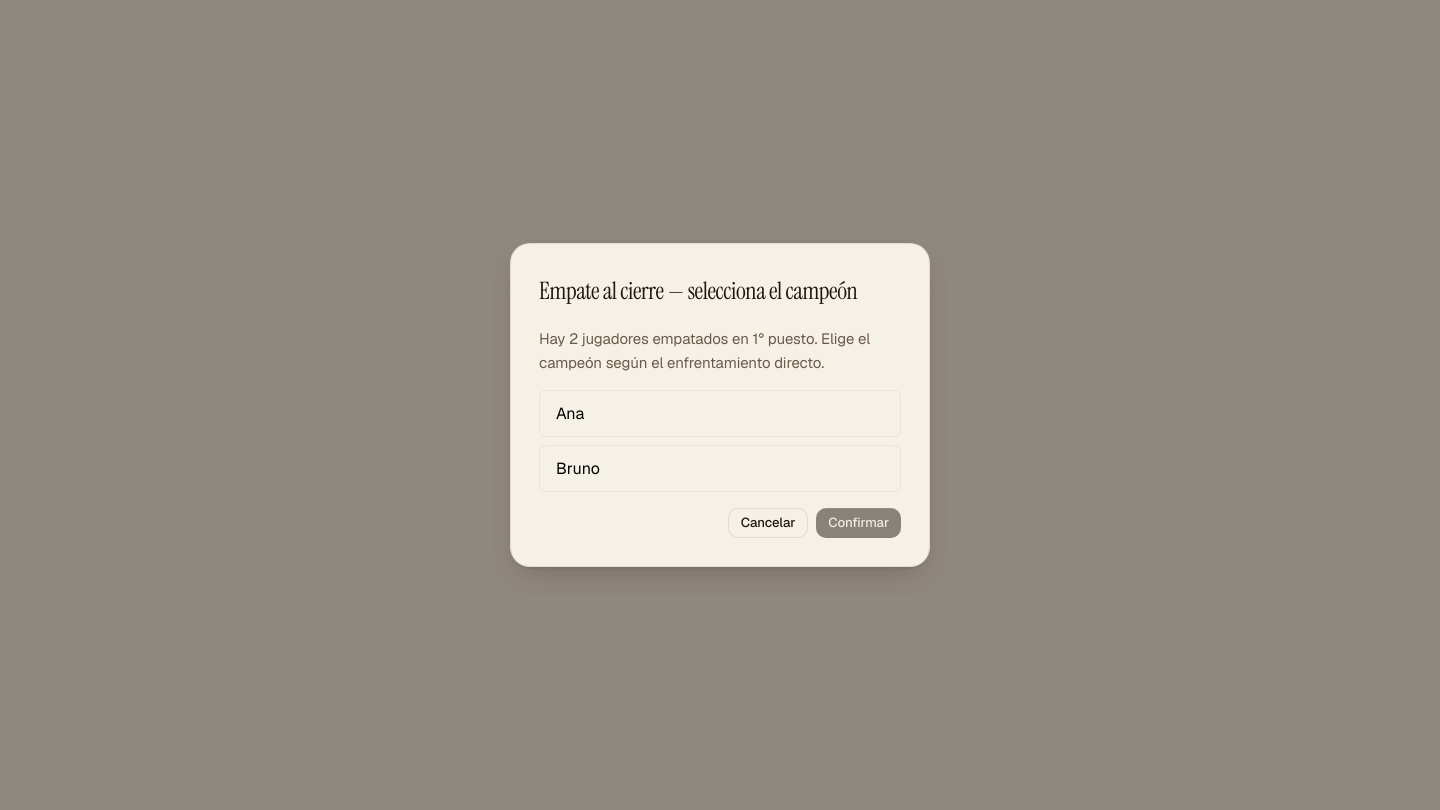
Test: ChampionPickerModal › 4. Clicking a player marks it aria-pressed=true and enables Confirm
This screenshot has width=1440, height=810.
Click the button "Ana".
click(570, 413)  # box [539,390,901,437]
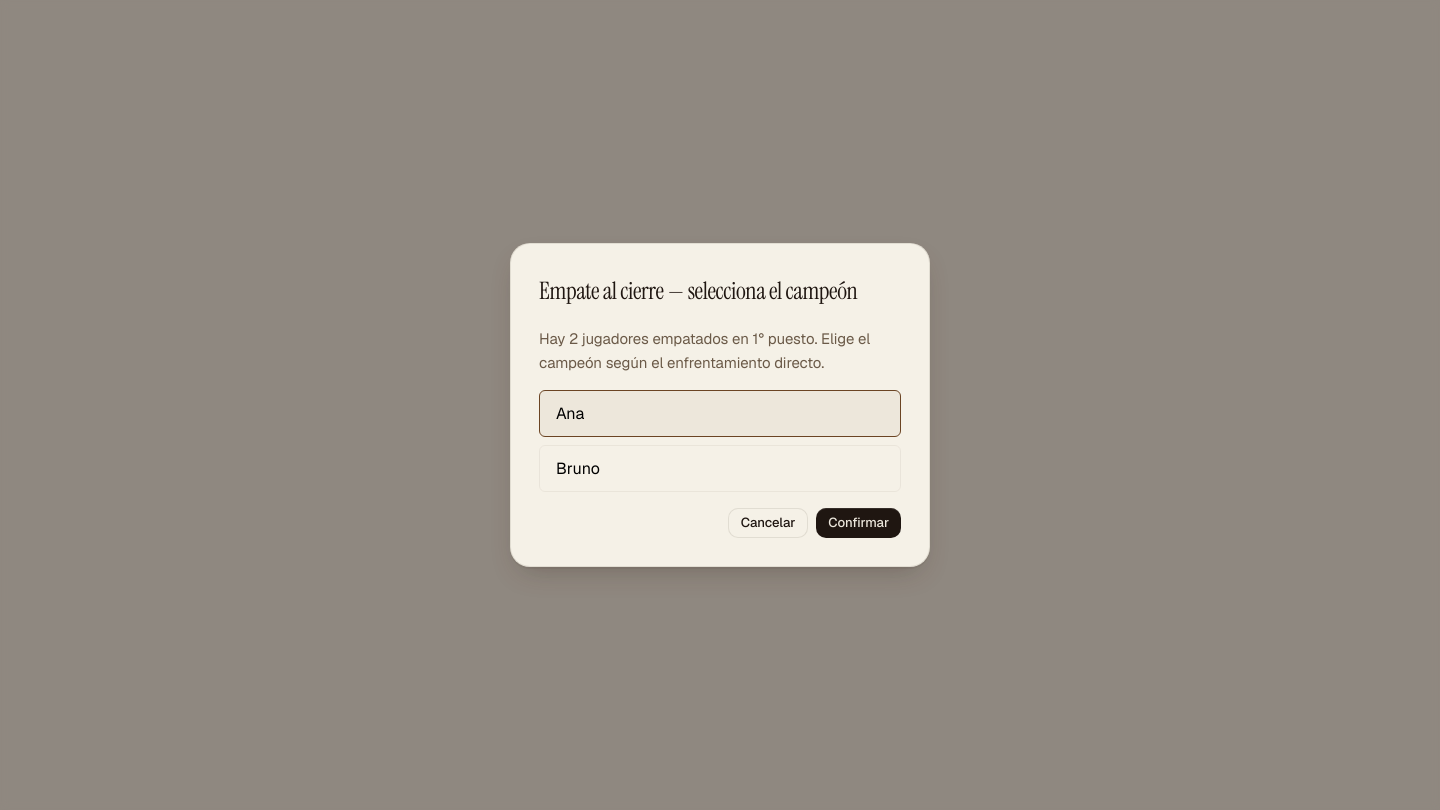
Now the button "Confirmar" is enabled, box [816,508,901,538]
